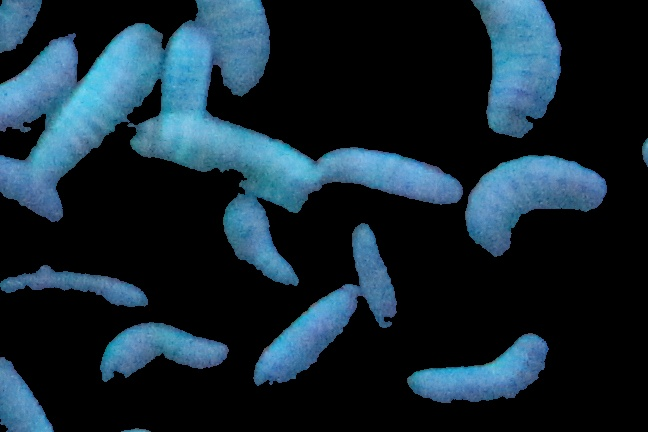larvae: (109, 72, 261, 235), (29, 23, 164, 177), (130, 113, 312, 200), (466, 158, 607, 255), (471, 1, 562, 136), (251, 285, 362, 388), (407, 331, 548, 406), (314, 145, 466, 209), (219, 193, 301, 296), (101, 321, 229, 386), (1, 34, 78, 140), (196, 1, 272, 95), (345, 223, 399, 326), (161, 21, 213, 112), (1, 154, 66, 223)
